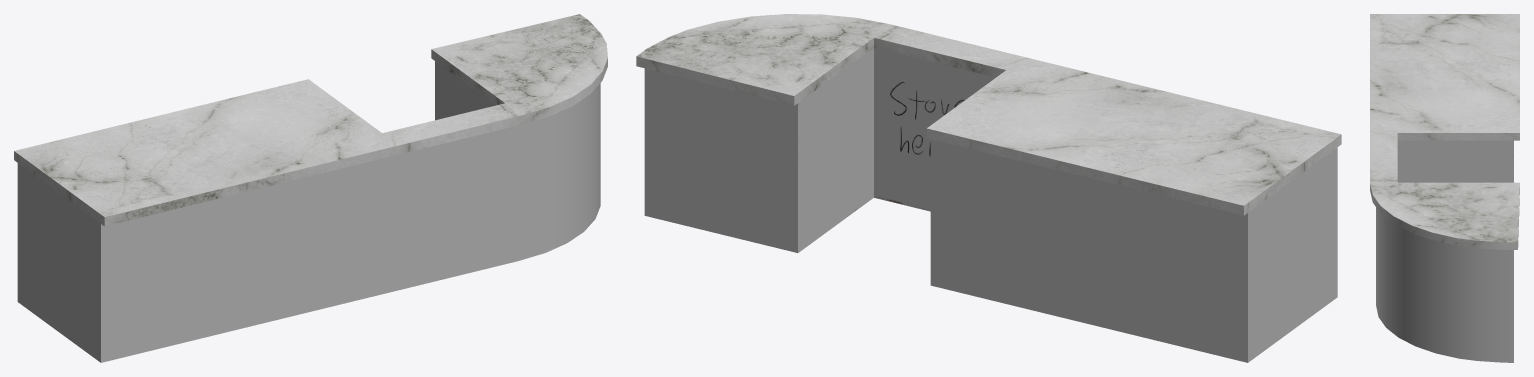
Rendered from Stove Countertop.fbx.
The picture shows the model from 3 angles, left to right: view 1: azimuth 30°, elevation 25°; view 2: azimuth 150°, elevation 25°; view 3: azimuth 270°, elevation 25°; orthographic projection. The views are drawn at different scales.
Parts seen in each view (by area): view 1: Stove Counter Top; view 2: Stove Counter Top; view 3: Stove Counter Top.
Part boxes in pixels (x1,y1,x2,y2): Stove Counter Top: (14,14,607,362); Stove Counter Top: (636,14,1341,362); Stove Counter Top: (1370,14,1519,362).
Size of the model in its own units: 496 by 124 by 138.
